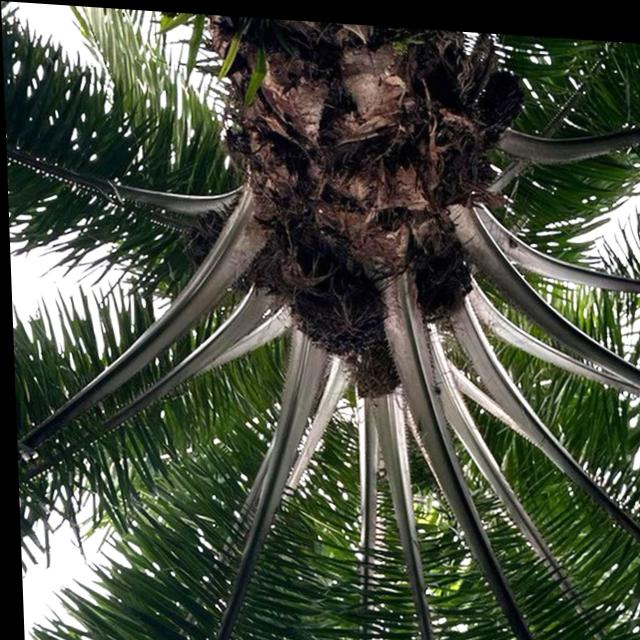unripe: (272, 248, 391, 362)
